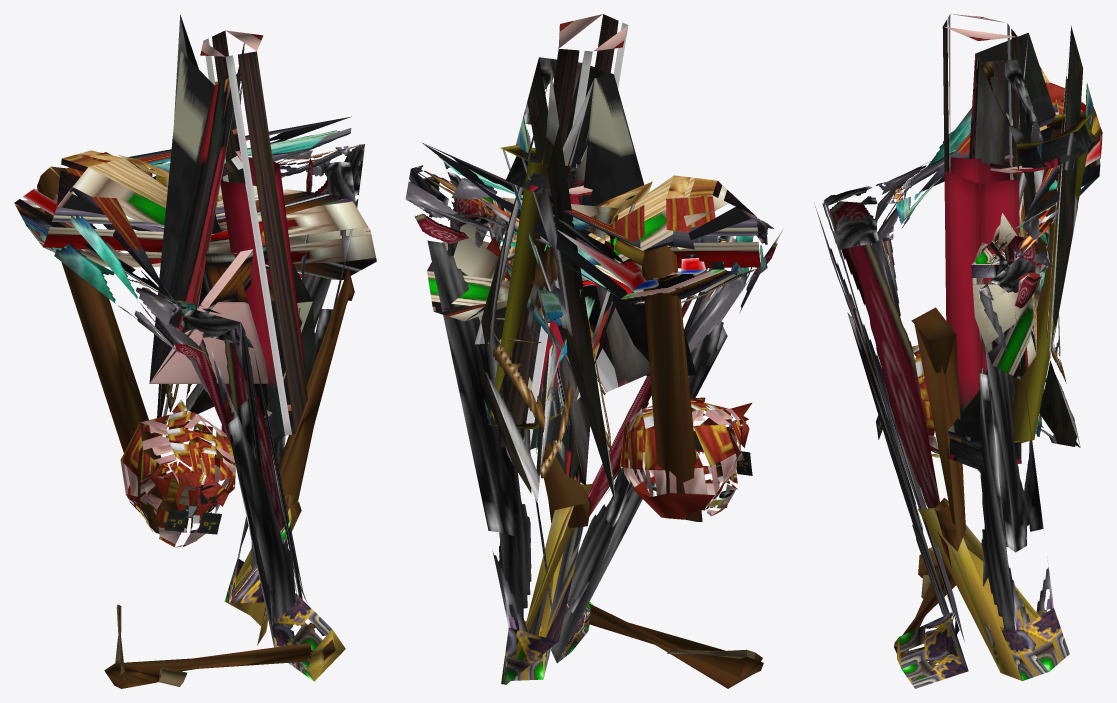
3 renders of one model, left to right at view 1: azimuth 30°, elevation 25°; view 2: azimuth 150°, elevation 25°; view 3: azimuth 270°, elevation 25°, orthographic. The views are drawn at different scales.
Visible parts, largest first — view 1: T1L7M003_18; view 2: T1L7M003_18; view 3: T1L7M003_18.
Part boxes in pixels (x1,y1,x2,y2): T1L7M003_18: (14,15,376,688); T1L7M003_18: (405,14,783,688); T1L7M003_18: (814,14,1102,688).
Bounding box in the file's own units: 0.8269 × 1.52 × 0.622.
